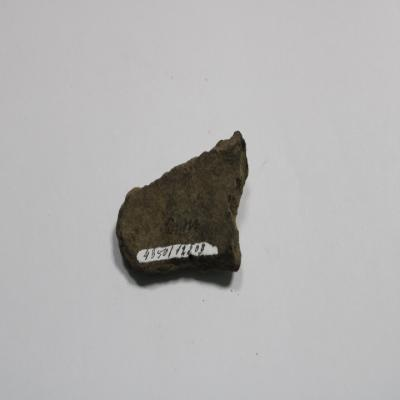archeology: (114, 131, 249, 278)
